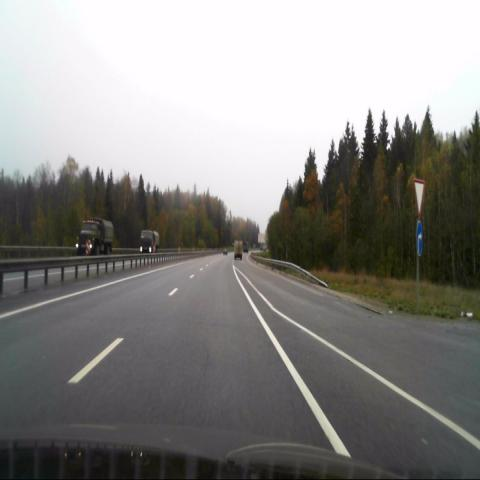2_4: (413, 176, 425, 217)
